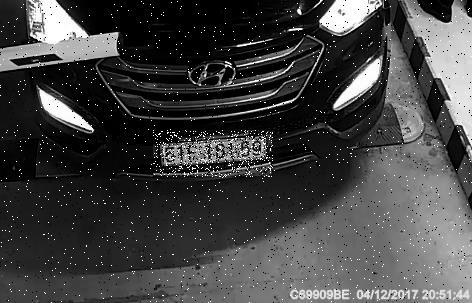License-plate: (155, 132, 275, 179)
